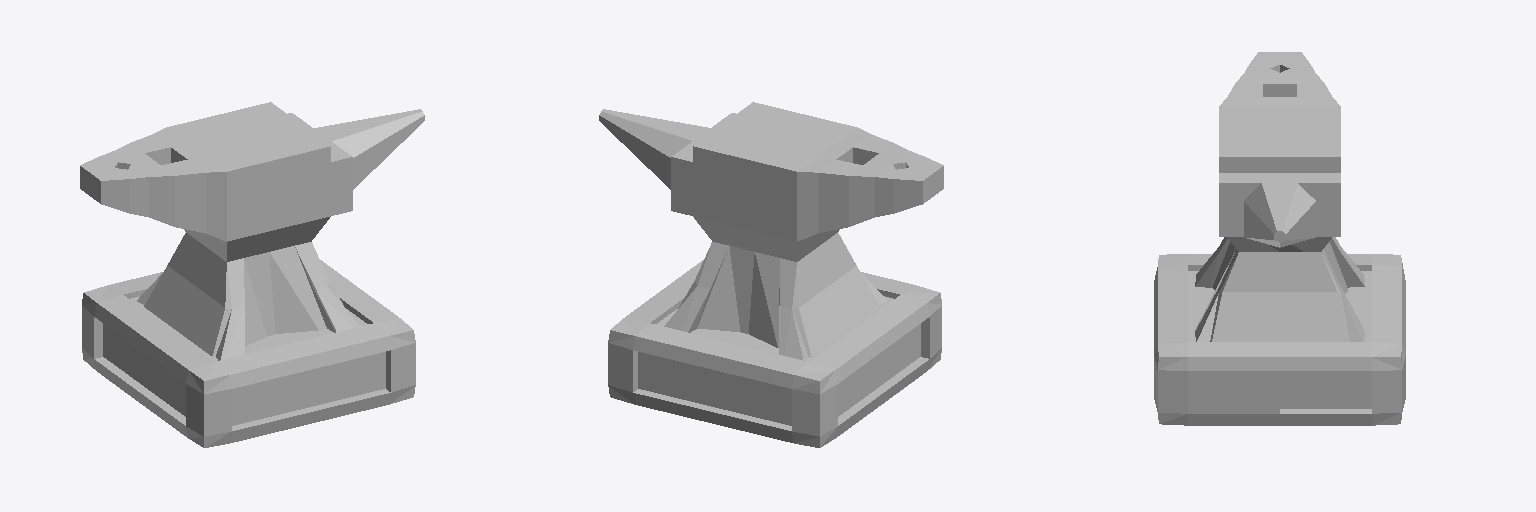
Rendered from Anvil 1.obj.
3 views of the same model, side by side, from view 1: azimuth 30°, elevation 25°; view 2: azimuth 150°, elevation 25°; view 3: azimuth 270°, elevation 25° (orthographic).
Visible parts, largest first — view 1: Anvil, Anvil_Box; view 2: Anvil, Anvil_Box; view 3: Anvil, Anvil_Box.
Boxes of the visible parts, box(x1,y1,x2,y2) form: Anvil: box(80, 102, 424, 360); Anvil_Box: box(82, 260, 415, 447); Anvil: box(599, 102, 943, 360); Anvil_Box: box(608, 260, 941, 447); Anvil: box(1194, 52, 1365, 341); Anvil_Box: box(1154, 254, 1405, 425).
Bounding box in the file's own units: 10.49 × 7.46 × 6.89.